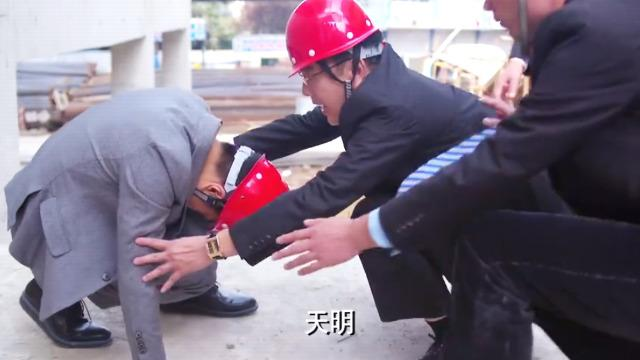helmet: (213, 151, 294, 253), (286, 1, 381, 74)
